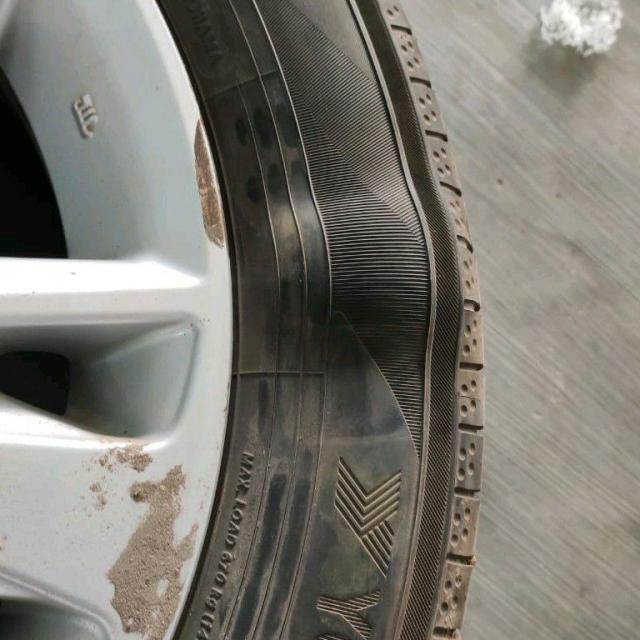Bulge: (225, 184, 468, 365)
